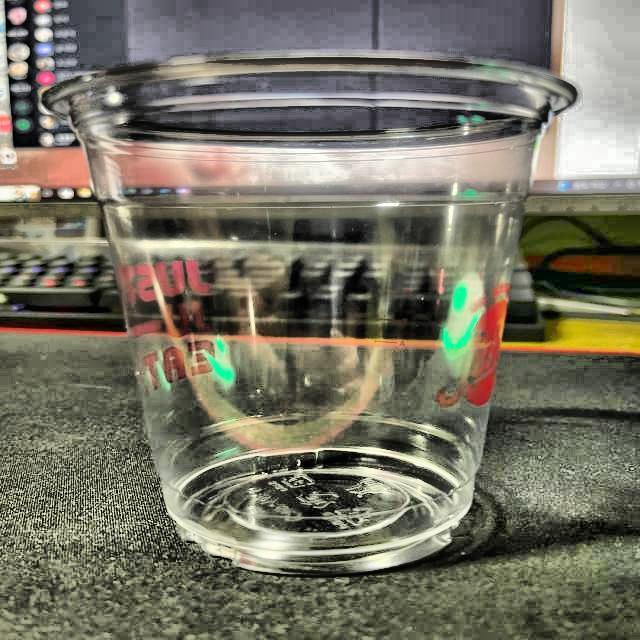plastic cup: (38, 48, 580, 576)
